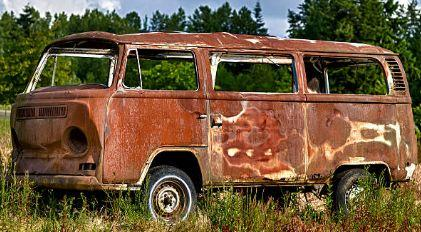automobile: (10, 31, 417, 227)
